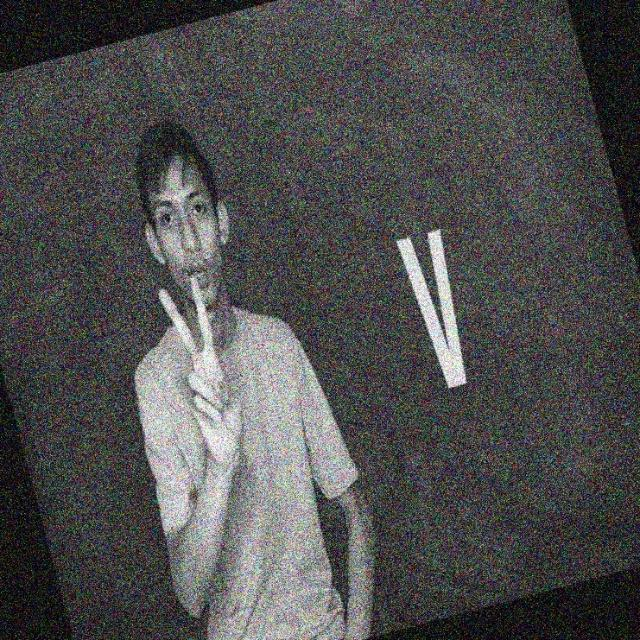V: (145, 267, 253, 474)
